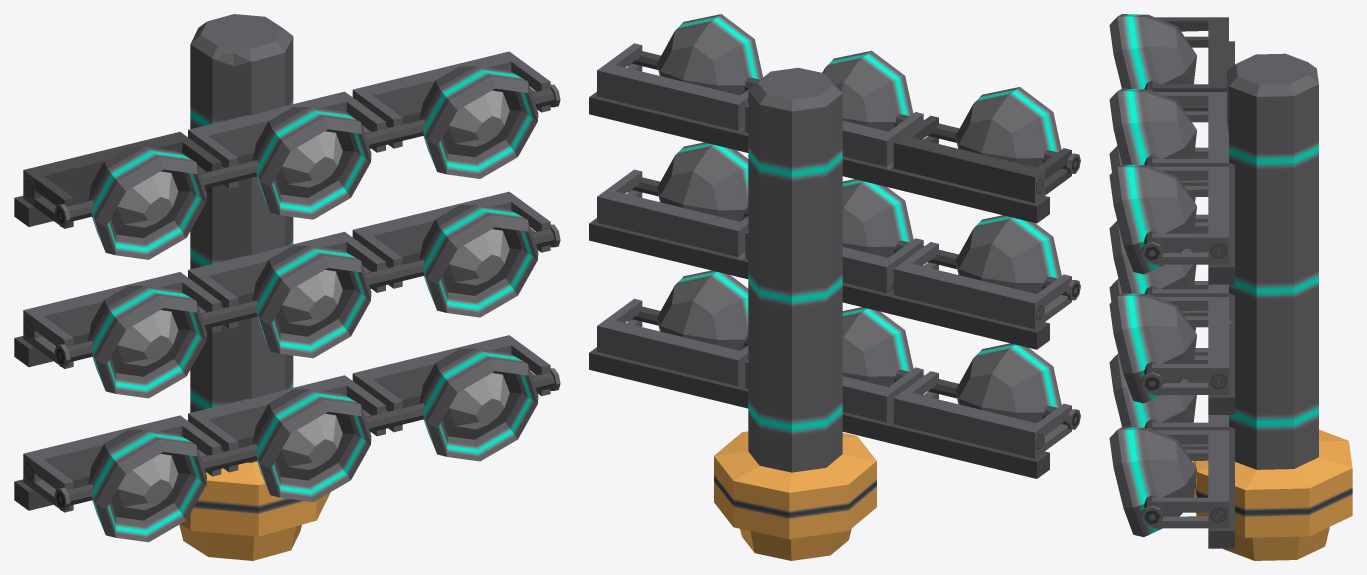
The model's file is SM_Prop_Hover_Light_03.fbx.
The picture shows the model from 3 angles, left to right: view 1: azimuth 30°, elevation 25°; view 2: azimuth 150°, elevation 25°; view 3: azimuth 270°, elevation 25°; orthographic projection. The views are drawn at different scales.
Visible parts, largest first — view 1: SM_Prop_Hover_Light_03; view 2: SM_Prop_Hover_Light_03; view 3: SM_Prop_Hover_Light_03.
Part boxes in pixels (bbox=[...]): SM_Prop_Hover_Light_03: bbox=[14, 14, 560, 560]; SM_Prop_Hover_Light_03: bbox=[589, 14, 1080, 560]; SM_Prop_Hover_Light_03: bbox=[1109, 14, 1352, 560].
Bounding box in the file's own units: 133 × 129 × 60.4.
